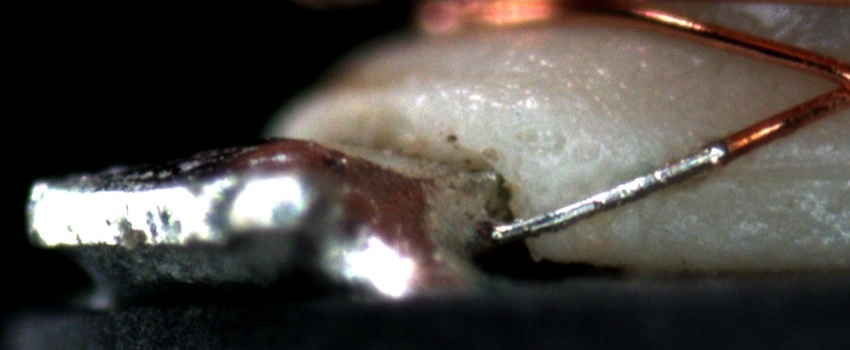CL: (803, 55, 850, 116)
DL: (692, 139, 850, 202)
TS: (493, 138, 727, 245)
